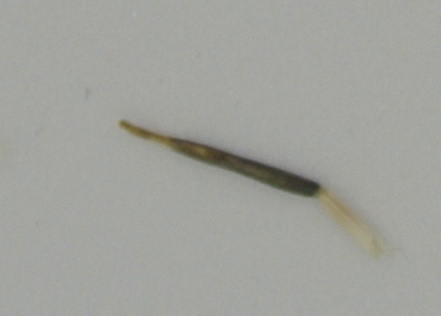เมล็ดงอกแตก: (118, 118, 385, 261)
